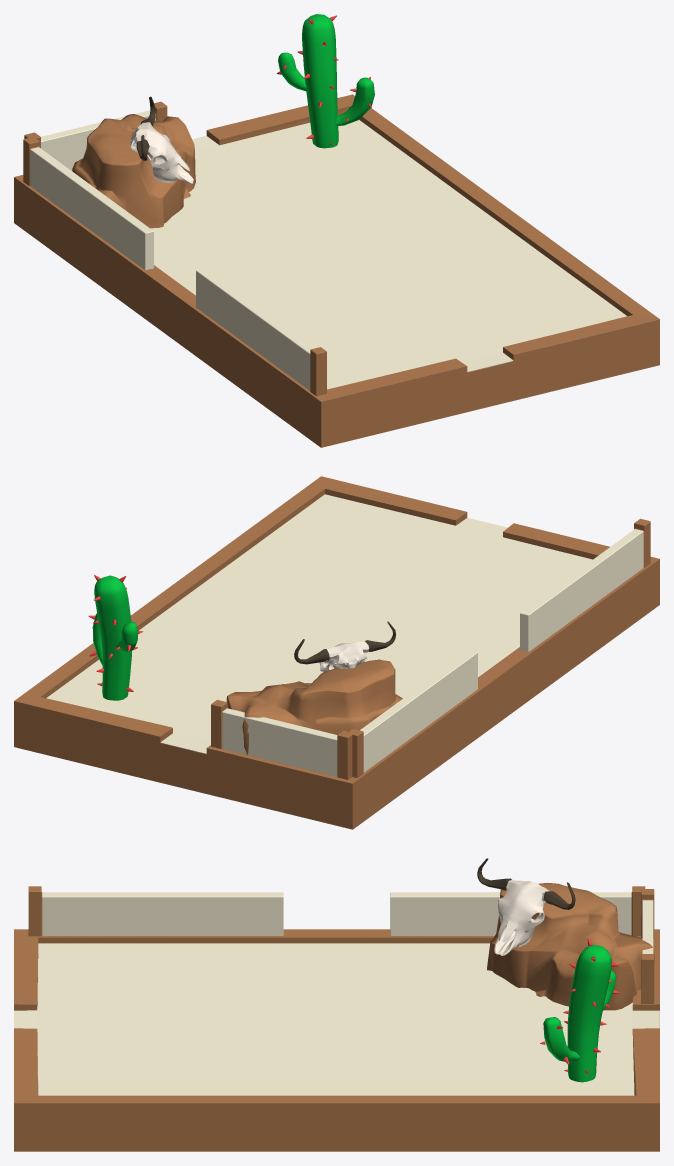
Rendered from Desert Map (3).fbx.
The picture shows the model from 3 angles, top to bottom: view 1: azimuth 30°, elevation 25°; view 2: azimuth 150°, elevation 25°; view 3: azimuth 270°, elevation 25°; orthographic projection. The views are drawn at different scales.
Parts seen in each view (by area): view 1: Floor, Fence, Rock, Cactus, Skull, Fence1; view 2: Floor, Fence, Rock, Fence1, Cactus, Skull; view 3: Floor, Fence, Rock, Cactus, Skull, Fence1.
Part boxes in pixels (box(x1,y1,x2,y2)): Floor: box(14, 94, 659, 447); Fence: box(23, 137, 326, 396); Rock: box(72, 114, 195, 228); Cactus: box(276, 14, 374, 148); Skull: box(130, 96, 193, 183); Fence1: box(24, 101, 167, 170); Floor: box(14, 476, 659, 829); Fence: box(348, 518, 650, 777); Rock: box(226, 659, 402, 754); Fence1: box(211, 700, 352, 779); Cactus: box(88, 575, 143, 700); Skull: box(294, 621, 395, 672); Floor: box(14, 929, 659, 1151); Fence: box(28, 886, 645, 936); Rock: box(487, 883, 654, 1010); Cactus: box(540, 938, 619, 1082); Skull: box(477, 858, 575, 955); Fence1: box(641, 889, 654, 1003).
Size of the model in its own units: 35.9 by 16.73 by 56.38.
